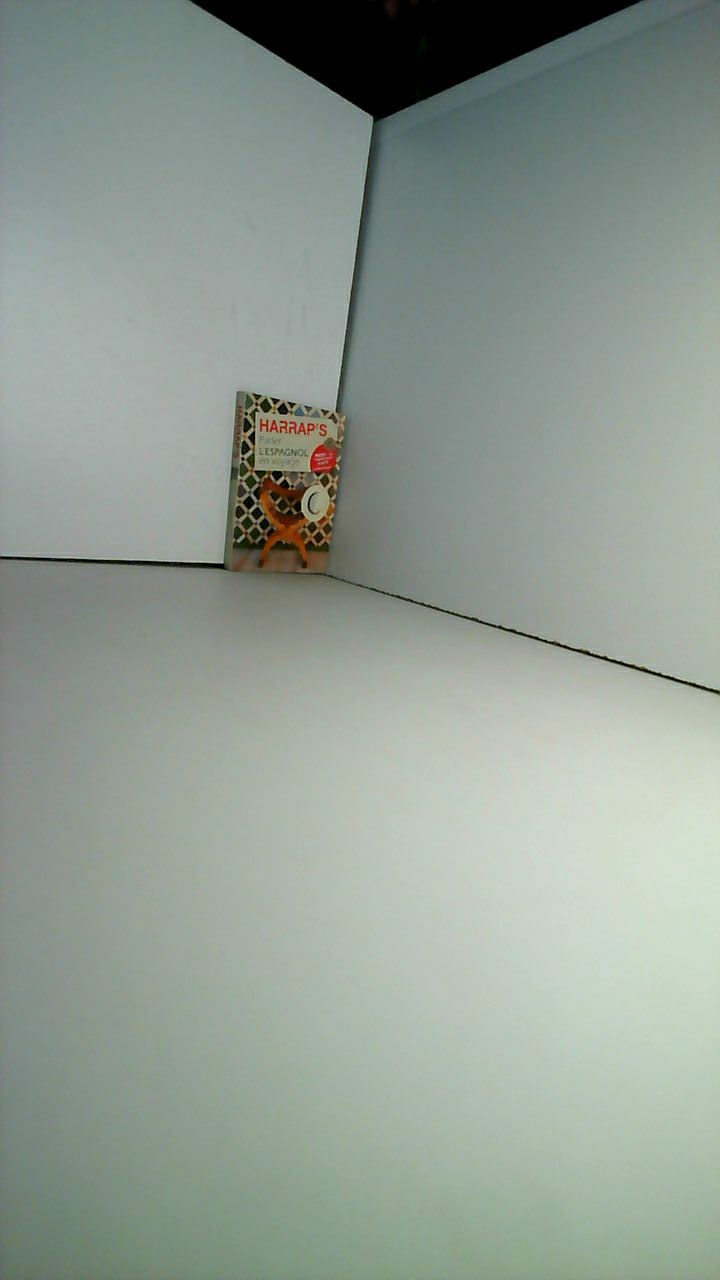book: (206, 366, 364, 605)
